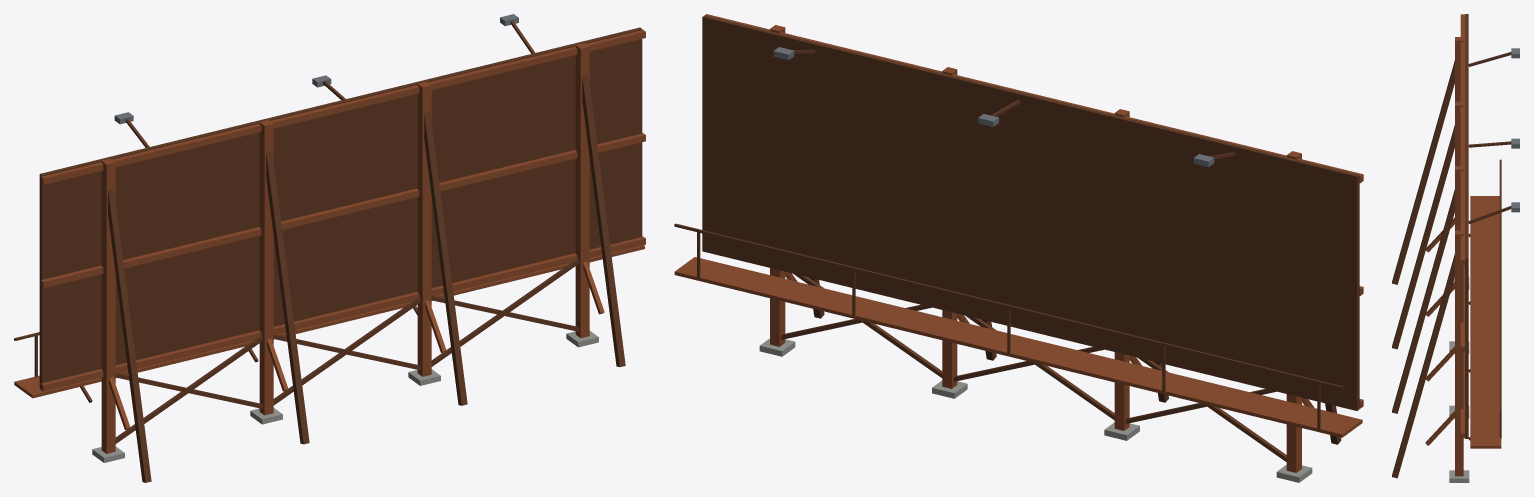
Rendered from billboard_roof_a.glb.
3 views of the same model, side by side, from view 1: azimuth 30°, elevation 25°; view 2: azimuth 150°, elevation 25°; view 3: azimuth 270°, elevation 25° (orthographic). The views are drawn at different scales.
Parts seen in each view (by area): view 1: billboard_roof_a; view 2: billboard_roof_a; view 3: billboard_roof_a.
Boxes of the visible parts, left/top/right/bottom form: billboard_roof_a: left=14, top=14, right=645, bottom=482; billboard_roof_a: left=674, top=14, right=1363, bottom=482; billboard_roof_a: left=1392, top=14, right=1519, bottom=482.
Size of the model in its own units: 12.4 by 5.96 by 2.68.
Materials: 3 (3 with a texture image).
